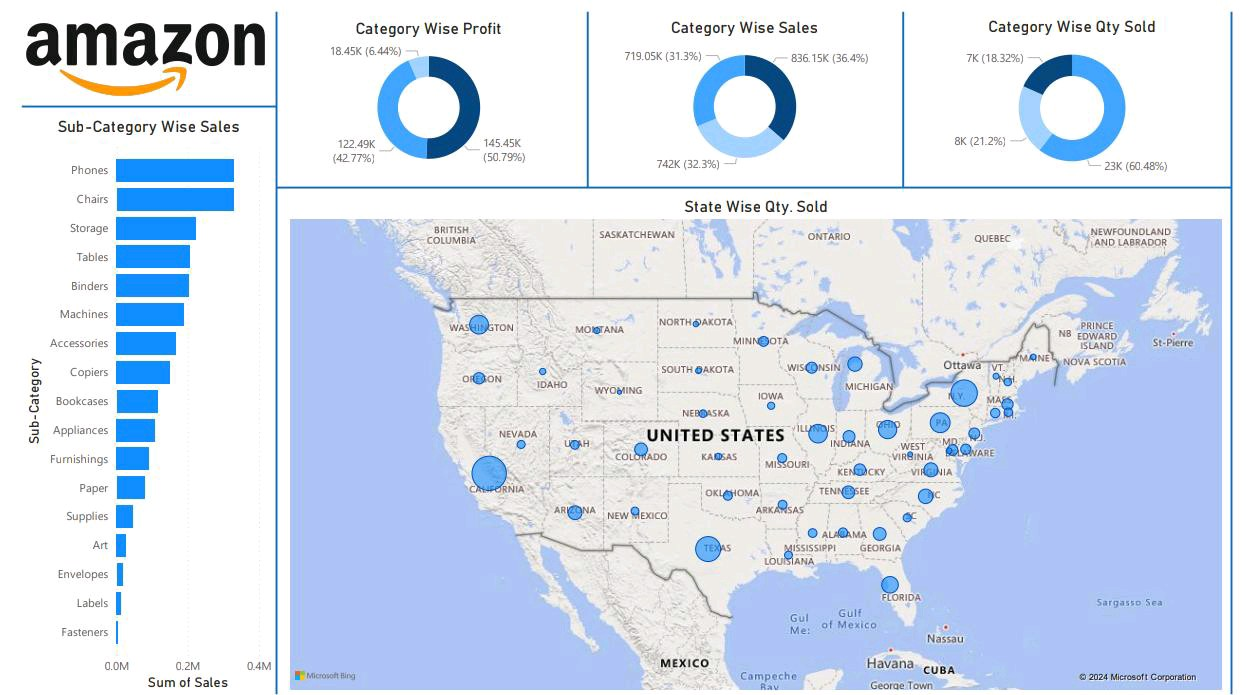

The page's visual inventory and layout, read from the dashboard file:
{"tool":"powerbi","page":{"name":"Sales_Dashboard","canvas":[1280,720],"ordinal":0},"visuals":[{"type":"image","box":[0,0,261,100],"z":0},{"type":"shape","box":[0,25.5,268.4,149],"z":1000},{"type":"clusteredBarChart","title":"Sub-Category Wise Sales","fields":{"Category":["Orders.Sub-Category"],"Y":["Sum(Orders.Sales)"]},"box":[0,111.3,268.4,608.7],"z":2000},{"type":"shape","box":[168.9,0,199,720],"z":3000},{"type":"map","title":"State Wise Qty. Sold","fields":{"Category":["Orders.State"],"Size":["Sum(Orders.Quantity)"]},"box":[277.5,195.1,992.3,524.9],"z":4000},{"type":"shape","box":[268,111,1007,149],"z":5000},{"type":"donutChart","title":"Category Wise Profit ","fields":{"Category":["Orders.Category"],"Y":["Sum(Orders.Profit)"]},"box":[278,7,302,169],"z":6000},{"type":"shape","box":[462.2,0,268.4,185.7],"z":7000},{"type":"donutChart","title":"Category Wise Sales","fields":{"Category":["Orders.Category"],"Y":["Sum(Orders.Sales)"]},"box":[608,6,308,169],"z":8000},{"type":"shape","box":[794.9,0,268.4,185.7],"z":9000},{"type":"donutChart","title":"Category Wise Qty Sold","fields":{"Category":["Orders.Category"],"Y":["Sum(Orders.Quantity)"]},"box":[944,5,326,174],"z":10000},{"type":"shape","box":[1270,0,10,720],"z":10001}]}

Visuals, with their boxes in screenshot pixels (x1, y1, x2, y2), scaled from the page's 1280x720 canvas onto the 1247x695 screenshot:
image: [x1=0, y1=0, x2=254, y2=97]
shape: [x1=0, y1=25, x2=261, y2=168]
"Sub-Category Wise Sales" clusteredBarChart: [x1=0, y1=107, x2=261, y2=694]
shape: [x1=165, y1=0, x2=358, y2=694]
"State Wise Qty. Sold" map: [x1=270, y1=188, x2=1237, y2=694]
shape: [x1=261, y1=107, x2=1242, y2=251]
"Category Wise Profit " donutChart: [x1=271, y1=7, x2=565, y2=170]
shape: [x1=450, y1=0, x2=712, y2=179]
"Category Wise Sales" donutChart: [x1=592, y1=6, x2=892, y2=169]
shape: [x1=774, y1=0, x2=1036, y2=179]
"Category Wise Qty Sold" donutChart: [x1=920, y1=5, x2=1237, y2=173]
shape: [x1=1237, y1=0, x2=1246, y2=694]
